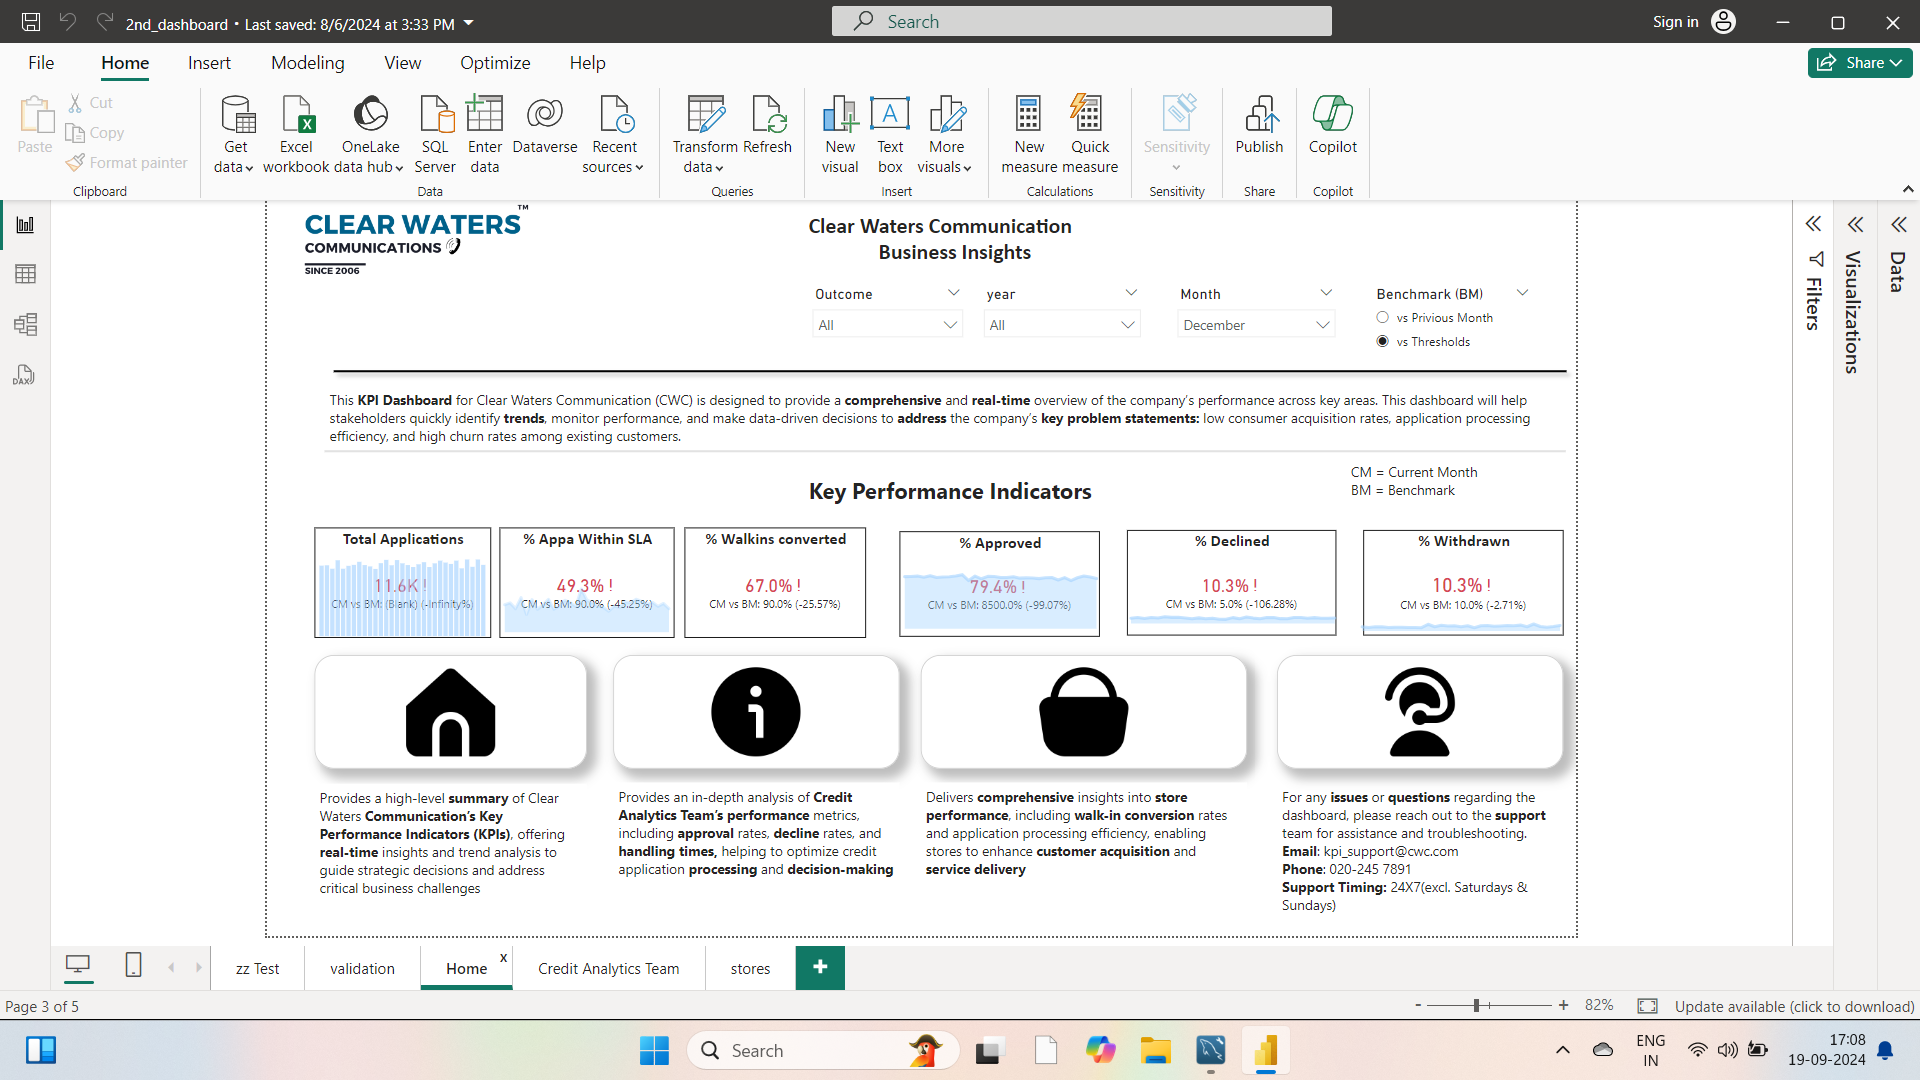

This screenshot's page, from the dashboard's own definition file:
{"tool":"powerbi","page":{"name":"Home","canvas":[1280,720],"ordinal":2},"visuals":[{"type":"group","id":"g1","title":"Group 6","box":[96.9,10,1090.2,686.9],"z":0},{"type":"group","id":"g2","title":"Group 4","box":[96.9,10,1090.2,548.1],"z":0,"group":"g1"},{"type":"textbox","box":[109.6,10,1077.3,71.6],"z":0,"group":"g2"},{"type":"slicer","fields":{"Values":["dim_date.updated_month"]},"box":[814.3,74.1,153.4,55.2],"z":0,"group":"g6"},{"type":"textbox","box":[98.1,325.2,178.6,33.8],"z":0,"group":"g5"},{"type":"image","box":[96.9,468.5,262.4,89.6],"z":0,"group":"g3"},{"type":"textbox","box":[370.4,562,265.1,127.2],"z":0,"group":"g4"},{"type":"image","box":[0,9.9,267.8,129.9],"z":1000},{"type":"slicer","fields":{"Values":["dim_date.updated_year"]},"box":[660.8,73.6,142.5,57],"z":1000,"group":"g6"},{"type":"shape","box":[115.5,139.8,1071.6,13.4],"z":1000,"group":"g2"},{"type":"textbox","box":[995.2,268.8,179.1,50.1],"z":1000,"group":"g1"},{"type":"clusteredColumnChart","fields":{"Category":["dim_date.Date"],"Y":["key_measures.total_apps_actioned"]},"box":[98.1,354.5,178.6,67.7],"z":1000,"group":"g5"},{"type":"image","box":[648.3,468.6,262.4,89.6],"z":1000,"group":"g3"},{"type":"textbox","box":[649.3,565.2,261,131.7],"z":1000,"group":"g4"},{"type":"shape","box":[98.2,246.8,1090.2,14],"z":2000},{"type":"kpi","fields":{"Indicator":["key_measures.total_apps_actioned"],"Goal":["key_measures.%_apps_actioned_vs_benchmark"],"TrendLine":["dim_date.updated_month"]},"box":[98.1,359.9,178.6,96.9],"z":2000,"group":"g5"},{"type":"group","id":"g3","title":"Group 1","box":[96.9,468.5,1090.2,89.6],"z":2000,"group":"g2"},{"type":"group","id":"g4","title":"Group 5","box":[99.2,562,1087.9,134.9],"z":2000,"group":"g1"},{"type":"textbox","box":[925,565.2,262.1,131.7],"z":2000,"group":"g4"},{"type":"textbox","box":[110.6,171.2,1076.6,104.8],"z":3000,"group":"g2"},{"type":"textbox","box":[283.1,327.9,176.5,26.5],"z":3000,"group":"g5"},{"type":"textbox","box":[99.2,565.2,260.6,131.7],"z":3000,"group":"g4"},{"type":"textbox","box":[97,269.7,1089.9,42.1],"z":4000,"group":"g2"},{"type":"kpi","fields":{"TrendLine":["dim_date.updated_month"],"Indicator":["key_measures.%_apps_within_sla"],"Goal":["key_measures.%_apps_within_sla_previous_vs_benchmark"]},"box":[283.3,359.5,175.4,96.1],"z":4000,"group":"g5"},{"type":"image","box":[924.7,468.6,262.4,89.6],"z":4000,"group":"g3"},{"type":"group","id":"g5","title":"Group 3","box":[98.1,325.2,1088,132.5],"z":5000,"group":"g2"},{"type":"areaChart","fields":{"Category":["dim_date.Date"],"Y":["key_measures.%_apps_within_sla"]},"box":[281,356.7,178.3,67.9],"z":5000,"group":"g5"},{"type":"image","box":[371.9,468.6,262.4,89.6],"z":5000,"group":"g3"},{"type":"group","id":"g6","title":"Group 2","box":[660.8,73.6,517.8,68.1],"z":6000,"group":"g2"},{"type":"textbox","box":[468.8,327.7,163.9,26],"z":6000,"group":"g5"},{"type":"kpi","fields":{"TrendLine":["dim_date.updated_month"],"Indicator":["key_measures.%_conversion"],"Goal":["key_measures.%_conversion_vs_benchmark"]},"box":[468.8,359.1,163,97.6],"z":7000,"group":"g5"},{"type":"textbox","box":[666.7,328.8,166.9,27.4],"z":8000,"group":"g5"},{"type":"textbox","box":[841.3,328.8,169,27.4],"z":9000,"group":"g5"},{"type":"textbox","box":[1017.9,328.8,168,27.4],"z":10000,"group":"g5"},{"type":"areaChart","fields":{"Category":["dim_date.Date"],"Y":["key_measures.%_apps_approved"]},"box":[661.3,352.8,171.9,69.9],"z":11000,"group":"g5"},{"type":"kpi","fields":{"TrendLine":["dim_date.updated_month"],"Indicator":["key_measures.%_apps_approved"],"Goal":["key_measures.%_apps_approved_vs_benchmark"]},"box":[666.7,360.8,166.9,96.9],"z":12000,"group":"g5"},{"type":"areaChart","fields":{"Category":["dim_date.Date"],"Y":["key_measures.%_apps_declined"]},"box":[843.1,359.1,165.7,64.5],"z":13000,"group":"g5"},{"type":"kpi","fields":{"TrendLine":["dim_date.updated_month"],"Indicator":["key_measures.%_apps_declined"],"Goal":["key_measures.%_apps_declined_vs_benchmark"]},"box":[843.1,361.7,167.5,94.9],"z":14000,"group":"g5"},{"type":"areaChart","fields":{"Category":["dim_date.Date"],"Y":["key_measures.%_apps_withdraw"]},"box":[1017.9,357.1,168,67.7],"z":15000,"group":"g5"},{"type":"slicer","fields":{"Values":["flt_benchmark_type.benchmark_type"]},"box":[992.5,74.5,186.1,67.1],"z":16000,"group":"g6"},{"type":"kpi","fields":{"TrendLine":["dim_date.updated_month"],"Indicator":["key_measures.%_apps_withdraw"],"Goal":["key_measures.%_apps_withdraw_vs_benchmark"]},"box":[1018.6,362.6,167.5,94],"z":16000,"group":"g5"}]}

Visuals, with their boxes on the page's 1280x720 design canvas (x1, y1, x2, y2). These are canvas units, not pixel positions in the 1920x1080 screenshot, which may show the page scaled, cropped or inside an application window:
"Group 6" group: bbox=(97, 10, 1187, 697)
"Group 4" group: bbox=(97, 10, 1187, 558)
textbox: bbox=(110, 10, 1187, 82)
slicer - dim_date.updated_month: bbox=(814, 74, 968, 129)
textbox: bbox=(98, 325, 277, 359)
image: bbox=(97, 468, 359, 558)
textbox: bbox=(370, 562, 636, 689)
image: bbox=(0, 10, 268, 140)
slicer - dim_date.updated_year: bbox=(661, 74, 803, 131)
shape: bbox=(116, 140, 1187, 153)
textbox: bbox=(995, 269, 1174, 319)
clusteredColumnChart - dim_date.Date x key_measures.total_apps_actioned: bbox=(98, 354, 277, 422)
image: bbox=(648, 469, 911, 558)
textbox: bbox=(649, 565, 910, 697)
shape: bbox=(98, 247, 1188, 261)
kpi - key_measures.total_apps_actioned x key_measures.%_apps_actioned_vs_benchmark: bbox=(98, 360, 277, 457)
"Group 1" group: bbox=(97, 468, 1187, 558)
"Group 5" group: bbox=(99, 562, 1187, 697)
textbox: bbox=(925, 565, 1187, 697)
textbox: bbox=(111, 171, 1187, 276)
textbox: bbox=(283, 328, 460, 354)
textbox: bbox=(99, 565, 360, 697)
textbox: bbox=(97, 270, 1187, 312)
kpi - dim_date.updated_month x key_measures.%_apps_within_sla: bbox=(283, 360, 459, 456)
image: bbox=(925, 469, 1187, 558)
"Group 3" group: bbox=(98, 325, 1186, 458)
areaChart - dim_date.Date x key_measures.%_apps_within_sla: bbox=(281, 357, 459, 425)
image: bbox=(372, 469, 634, 558)
"Group 2" group: bbox=(661, 74, 1179, 142)
textbox: bbox=(469, 328, 633, 354)
kpi - dim_date.updated_month x key_measures.%_conversion: bbox=(469, 359, 632, 457)
textbox: bbox=(667, 329, 834, 356)
textbox: bbox=(841, 329, 1010, 356)
textbox: bbox=(1018, 329, 1186, 356)
areaChart - dim_date.Date x key_measures.%_apps_approved: bbox=(661, 353, 833, 423)
kpi - dim_date.updated_month x key_measures.%_apps_approved: bbox=(667, 361, 834, 458)
areaChart - dim_date.Date x key_measures.%_apps_declined: bbox=(843, 359, 1009, 424)
kpi - dim_date.updated_month x key_measures.%_apps_declined: bbox=(843, 362, 1011, 457)
areaChart - dim_date.Date x key_measures.%_apps_withdraw: bbox=(1018, 357, 1186, 425)
slicer - flt_benchmark_type.benchmark_type: bbox=(992, 74, 1179, 142)
kpi - dim_date.updated_month x key_measures.%_apps_withdraw: bbox=(1019, 363, 1186, 457)
